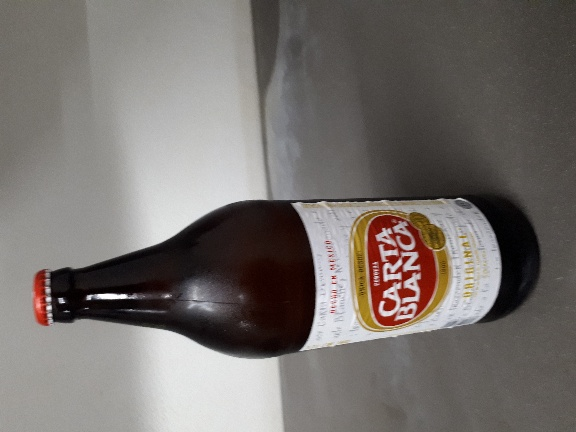CBB: (19, 139, 391, 263)
